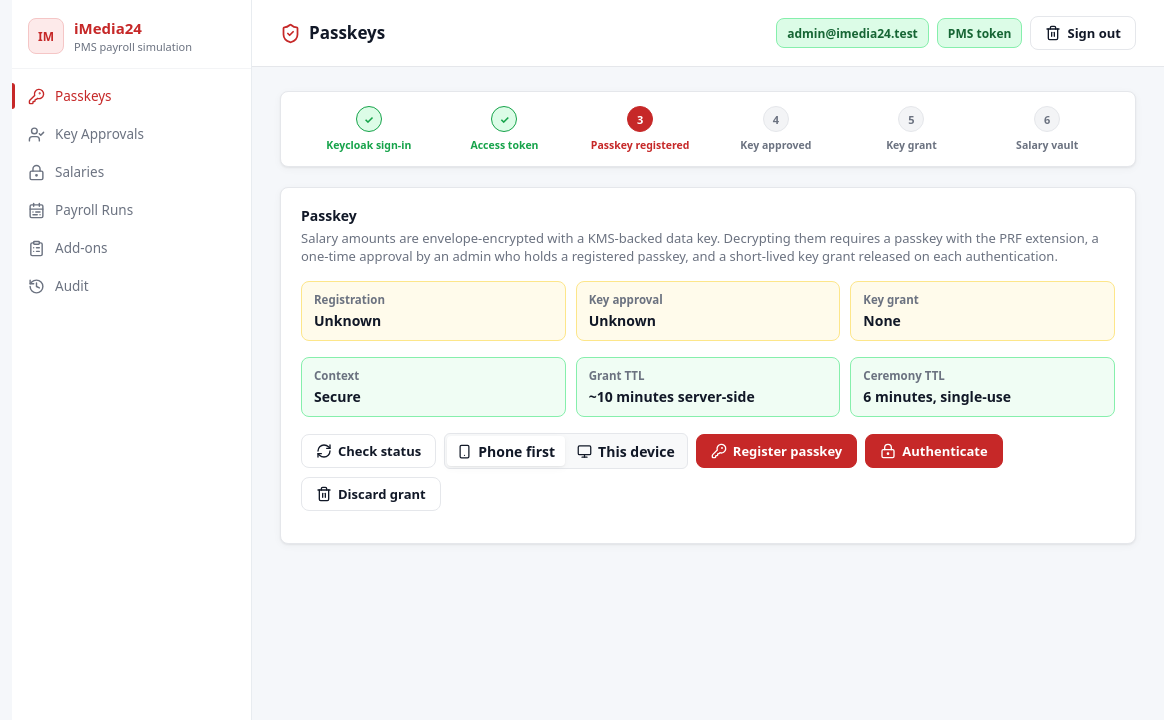
Test: PMS real API app › shows real PMS errors without fixture fallback
The image size is (1164, 720).
expect the text "PMS token" is shown: met, box [937,18,1022,48]
Click the button "Check status" at (369,451), box [301,434,436,468]
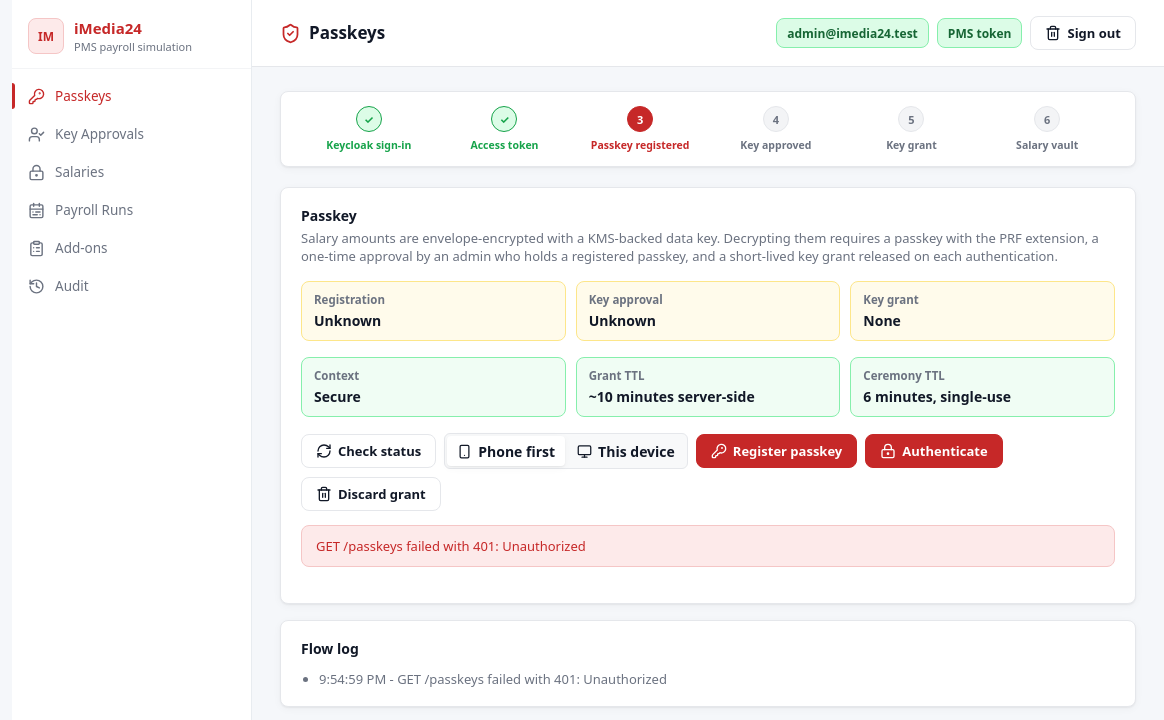
expect the text "GET /passkeys failed with 401: Unauthorized" is shown: met, box [301,525,1115,567]
